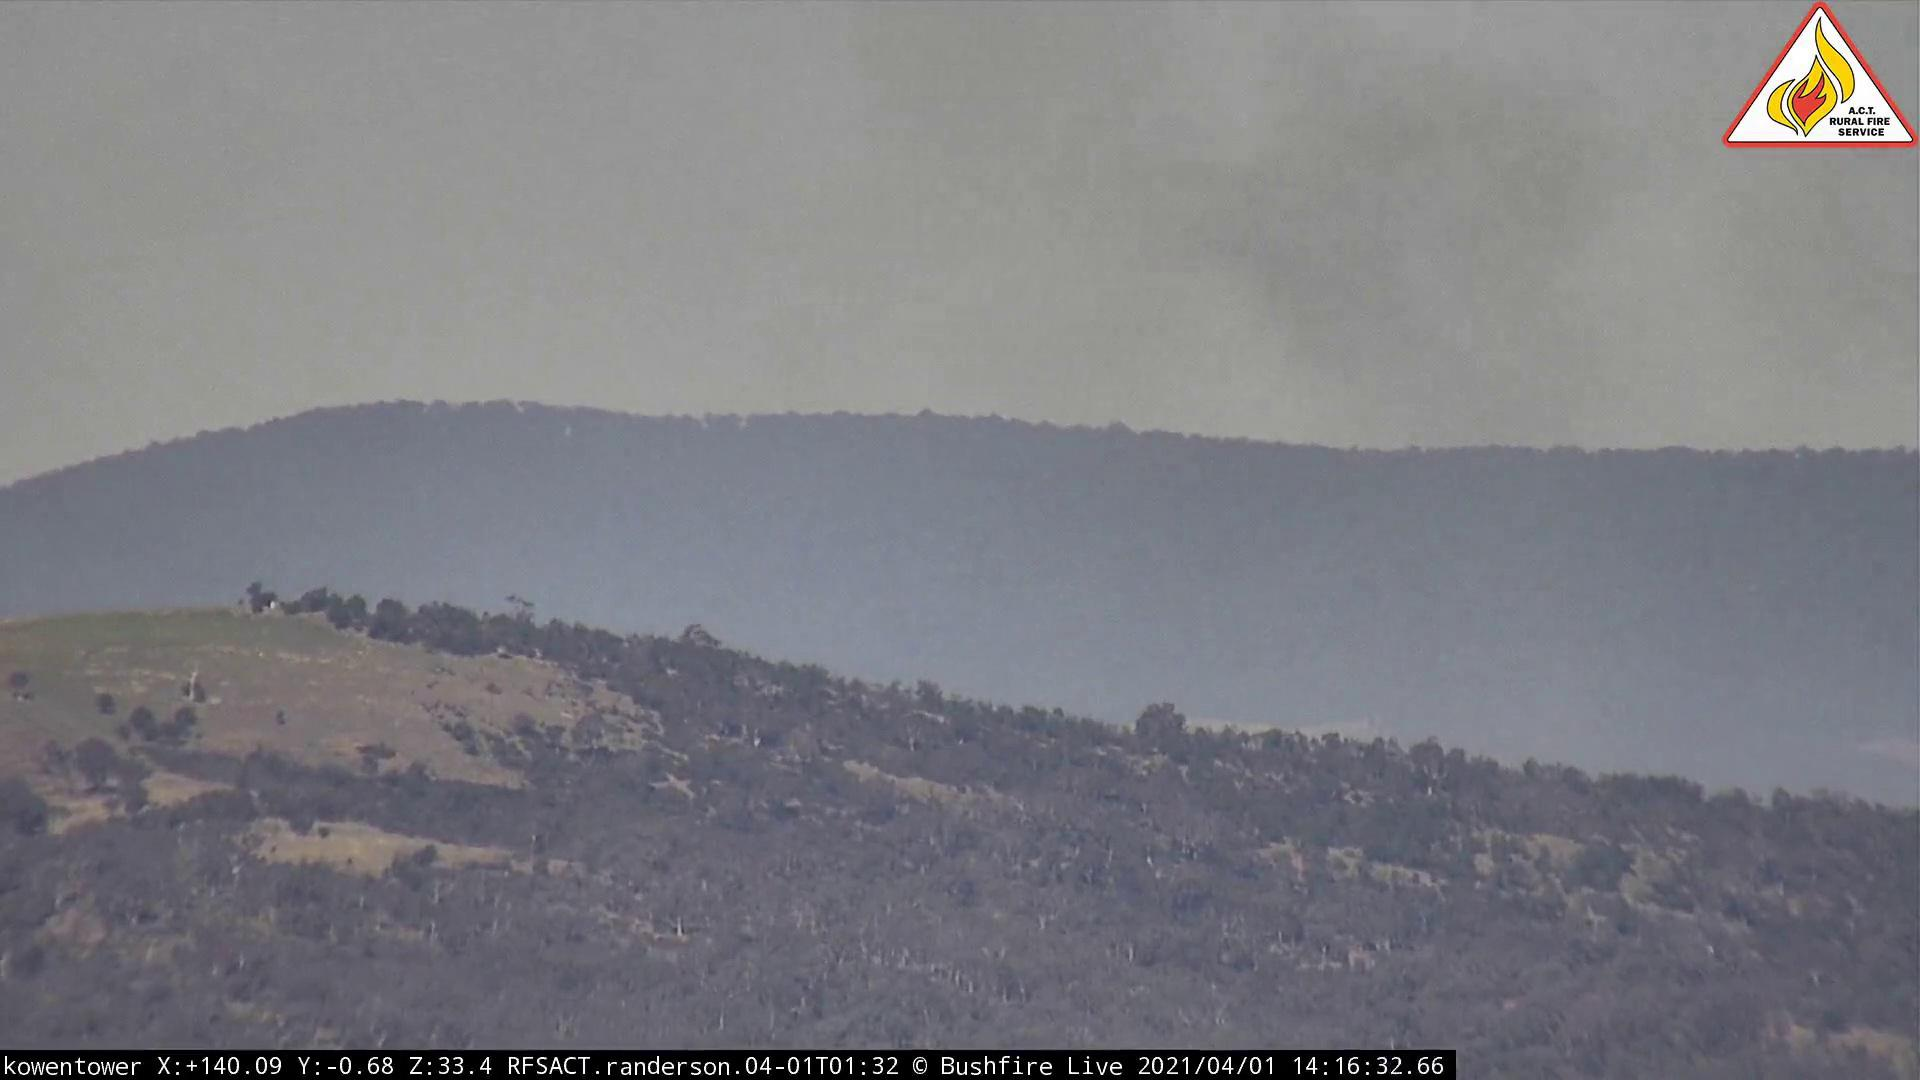instance_salient_object: (882, 3, 1675, 508)
